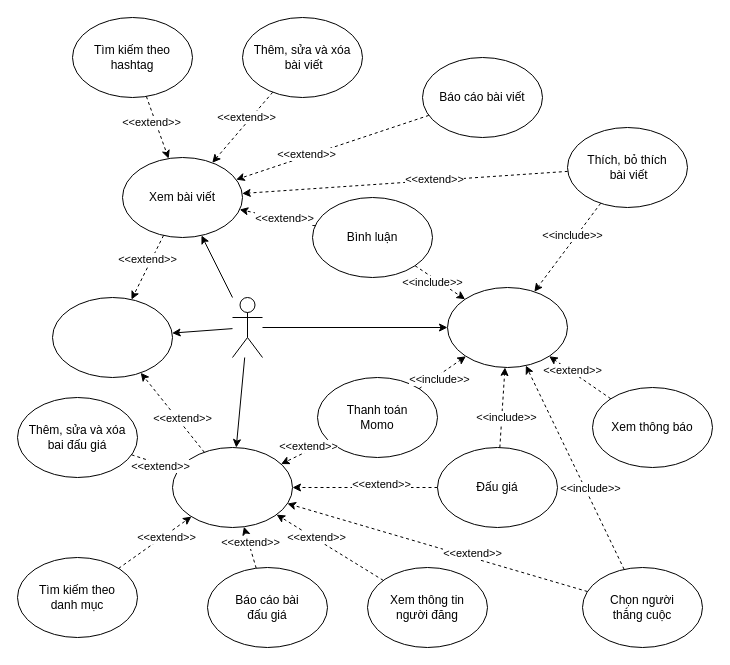
This 730x665 diagram has some shape labels left out. Each missing label, with the centre of its shape:
Thông báo: (507,327)
User: (247,327)
Xem bài đấu giá: (232,487)
Xem bài đấu giá đã tham gia: (112,337)
